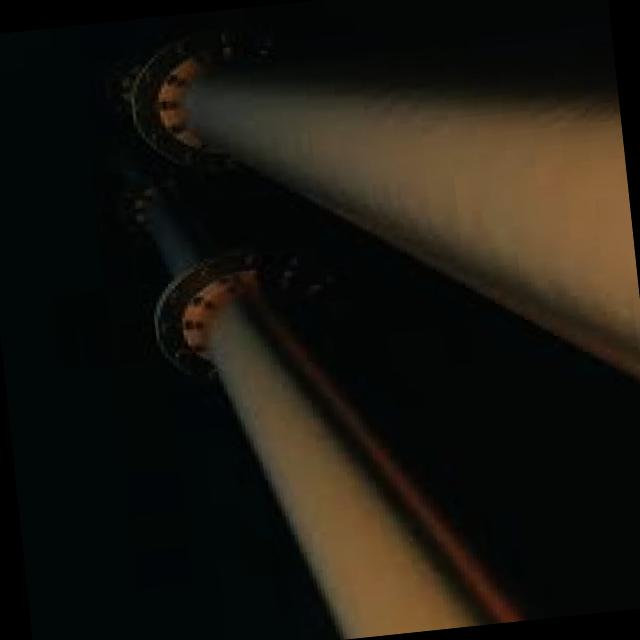gas: (192, 27, 640, 378), (212, 302, 487, 639), (82, 41, 304, 351), (154, 205, 203, 272)
